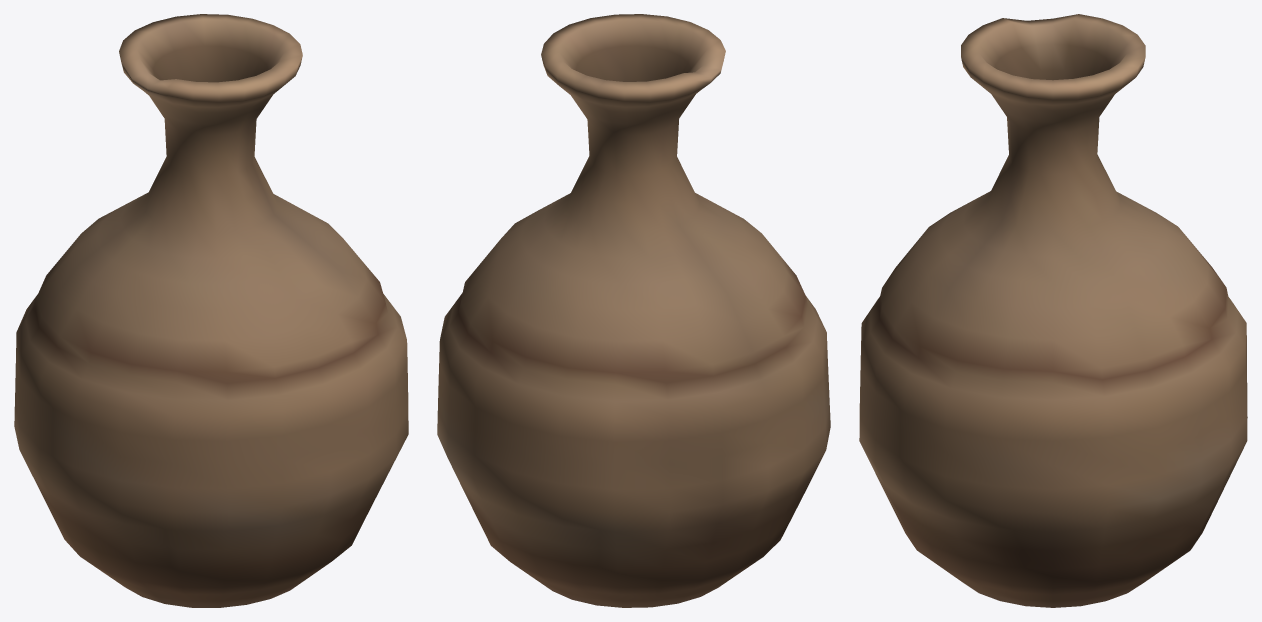
Rendered from pot_surahi_v2_c.glb.
3 renders of one model, left to right at view 1: azimuth 30°, elevation 25°; view 2: azimuth 150°, elevation 25°; view 3: azimuth 270°, elevation 25°, orthographic.
Parts seen in each view (by area): view 1: hb_main; view 2: hb_main; view 3: hb_main.
Boxes of the visible parts, x1,y1,x2,y2 form: hb_main: [14, 14, 408, 607]; hb_main: [437, 14, 830, 607]; hb_main: [859, 14, 1247, 607].
Bounding box in the file's own units: 0.3422 × 0.492 × 0.3346.
